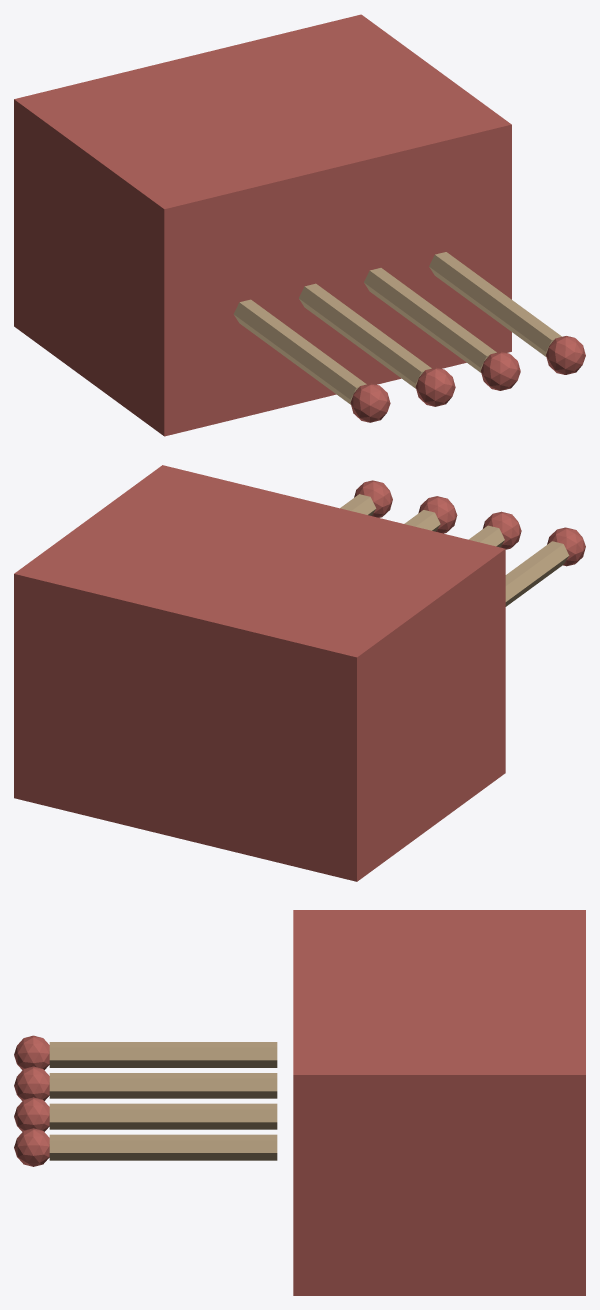
File: matches.glb
3 views of the same model, one above another, from view 1: azimuth 30°, elevation 25°; view 2: azimuth 150°, elevation 25°; view 3: azimuth 270°, elevation 25° (orthographic). The views are drawn at different scales.
Visible parts, largest first — view 1: 00_package, 07_matchstick, 03_matchstick, 05_matchstick, 09_matchstick, 04_match_head, 10_match_head, 06_match_head, 08_match_head; view 2: 00_package, 03_matchstick, 04_match_head, 08_match_head, 06_match_head, 10_match_head; view 3: 00_package, 07_matchstick, 09_matchstick, 03_matchstick, 05_matchstick, 10_match_head, 06_match_head, 04_match_head, 08_match_head.
Part boxes in pixels (<box>): 00_package: <box>14,14,511,436</box>; 07_matchstick: <box>364,268,496,372</box>; 03_matchstick: <box>233,299,366,404</box>; 05_matchstick: <box>299,283,431,388</box>; 09_matchstick: <box>429,252,561,356</box>; 04_match_head: <box>350,383,390,422</box>; 10_match_head: <box>546,336,585,374</box>; 06_match_head: <box>415,367,455,406</box>; 08_match_head: <box>481,351,520,390</box>; 00_package: <box>14,465,505,881</box>; 03_matchstick: <box>505,541,569,606</box>; 04_match_head: <box>547,527,585,566</box>; 08_match_head: <box>418,496,457,533</box>; 06_match_head: <box>483,511,521,549</box>; 10_match_head: <box>354,480,392,517</box>; 00_package: <box>293,910,585,1295</box>; 07_matchstick: <box>49,1103,277,1129</box>; 09_matchstick: <box>49,1134,277,1160</box>; 03_matchstick: <box>49,1042,277,1067</box>; 05_matchstick: <box>49,1073,277,1098</box>; 10_match_head: <box>14,1128,49,1166</box>; 06_match_head: <box>14,1066,49,1100</box>; 04_match_head: <box>14,1035,49,1069</box>; 08_match_head: <box>14,1097,49,1131</box>.
Size of the model in its own units: 0.24 by 0.163 by 0.352.
